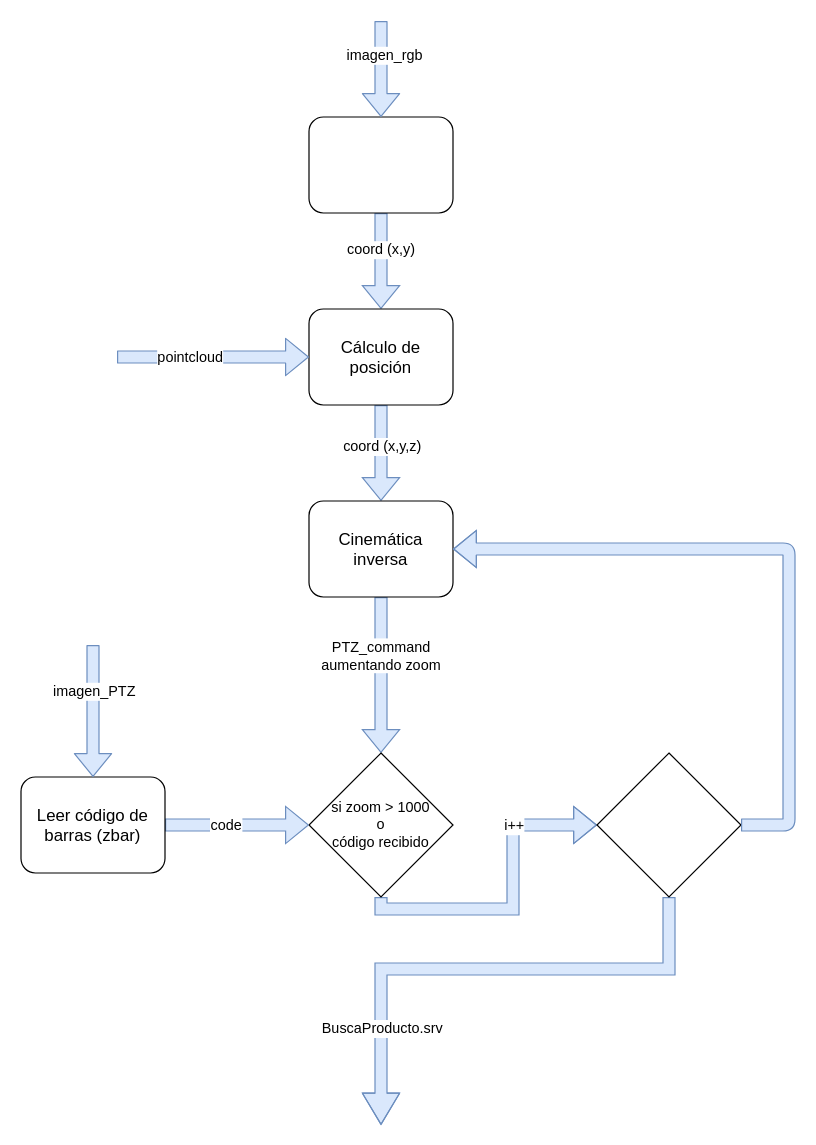
This 816x1145 diagram has some shape labels left out. The centre of each missing label's shape, as x and y in pixels:
"si i > objetivos" goes at point (668, 824).
"Tratamiento de imagen" goes at point (380, 164).
